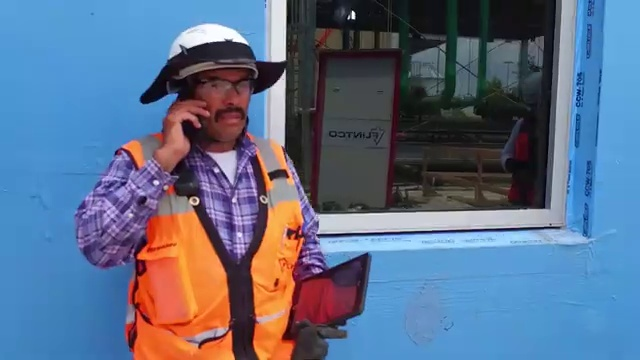helmet: (162, 22, 261, 84)
jacket: (109, 136, 314, 360)
